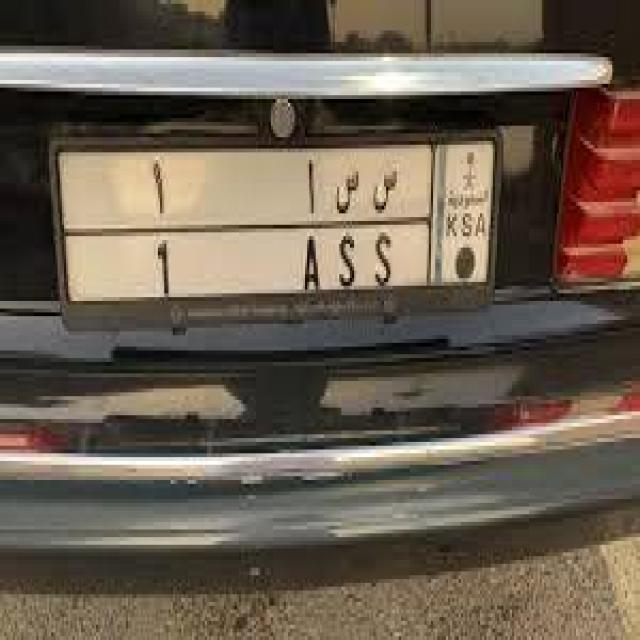license_plate: (34, 95, 499, 316)
